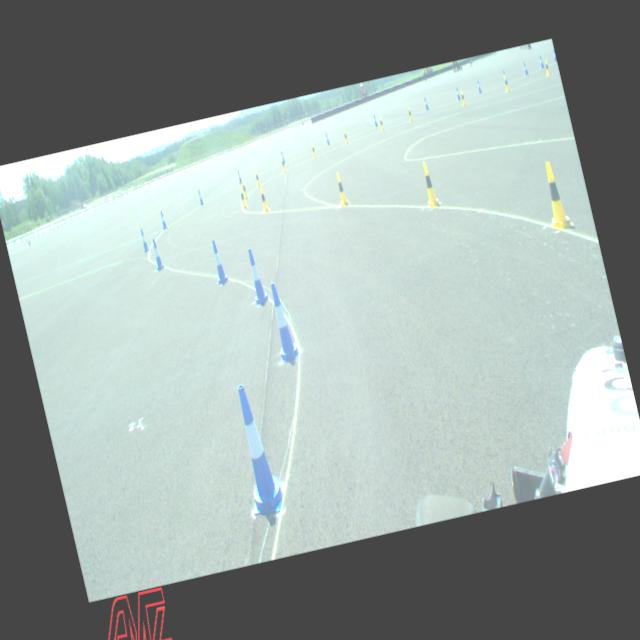blue_cone: (224, 380, 290, 518), (264, 280, 302, 362), (242, 248, 270, 306), (208, 239, 229, 285), (150, 238, 164, 270), (138, 227, 150, 252), (158, 210, 168, 230), (196, 189, 204, 205), (475, 79, 482, 93), (538, 54, 544, 68), (454, 86, 460, 100), (423, 96, 429, 109), (522, 61, 528, 74), (280, 150, 286, 163), (236, 170, 242, 183), (372, 114, 378, 126), (324, 132, 330, 144), (552, 48, 556, 61), (502, 69, 506, 75)
yellow_cone: (536, 158, 574, 230), (417, 160, 441, 208), (332, 171, 350, 206), (257, 184, 270, 212), (237, 185, 248, 209), (240, 179, 248, 199), (254, 169, 262, 187), (542, 59, 550, 76), (458, 90, 466, 106), (342, 128, 349, 144), (310, 142, 317, 158), (502, 74, 509, 90), (406, 106, 413, 121), (280, 156, 286, 172), (378, 115, 384, 130)
